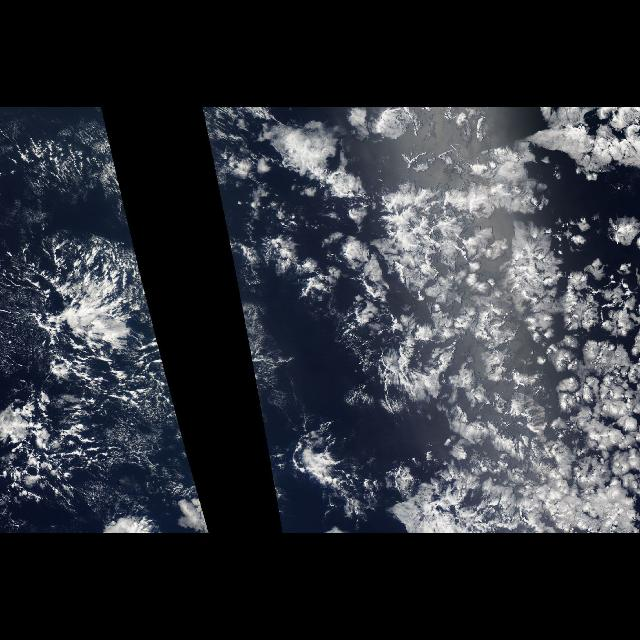Flower: (214, 109, 638, 532)
Sugar: (12, 118, 208, 524), (204, 118, 276, 500)
